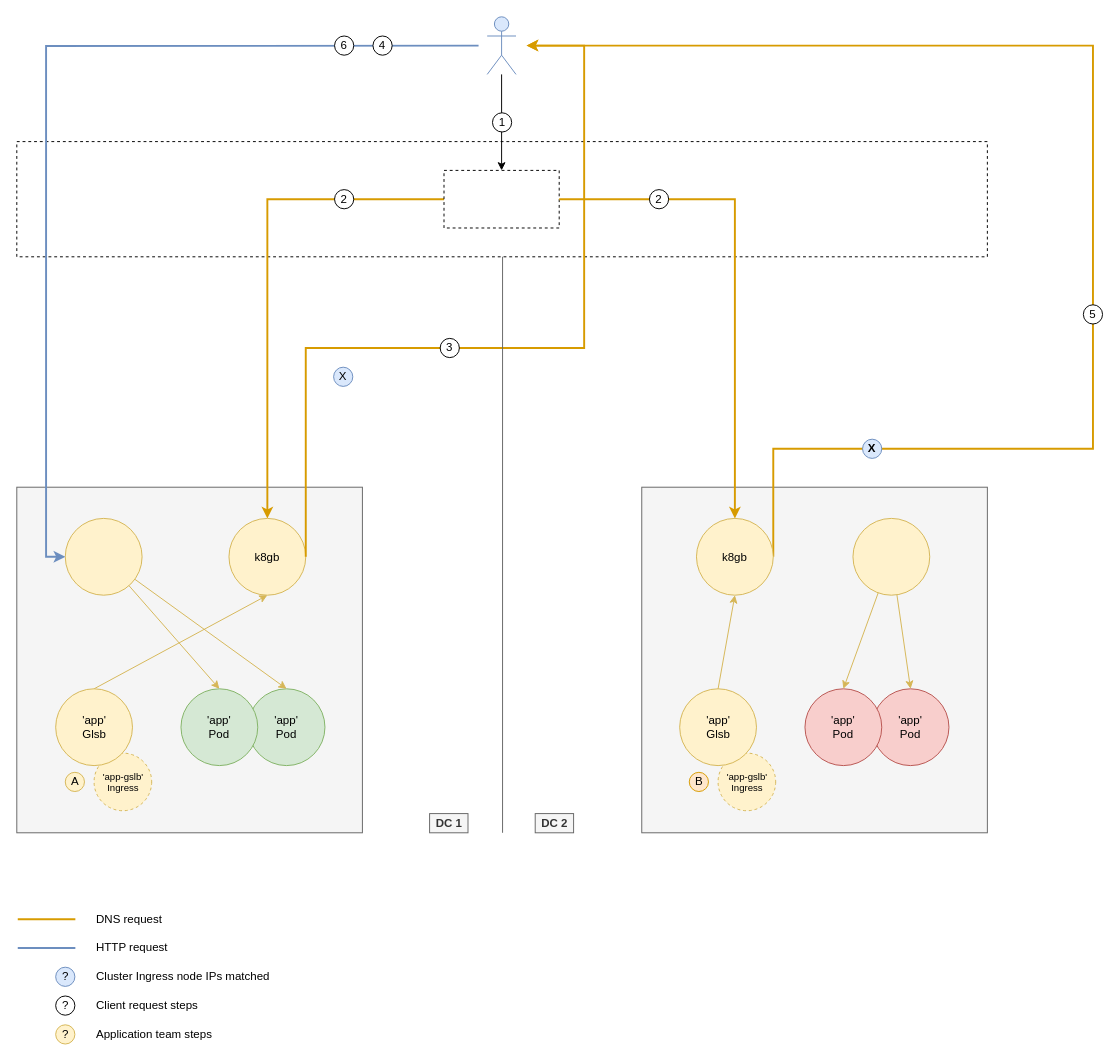
Some shapes in this 1119 by 1061 pixel diagram are drawn without their labels. The box of each missing label's shape, as (x1, y1, x2, y2) in pixels:
DNS Recursive Resolver: (443, 169, 559, 228)
Ingress Contrioller X: (64, 517, 142, 595)
Ingress Contrioller Y: (852, 517, 930, 595)
Kubernetes cluster X: (16, 486, 362, 833)
Kubernetes cluster Y: (641, 486, 987, 833)
